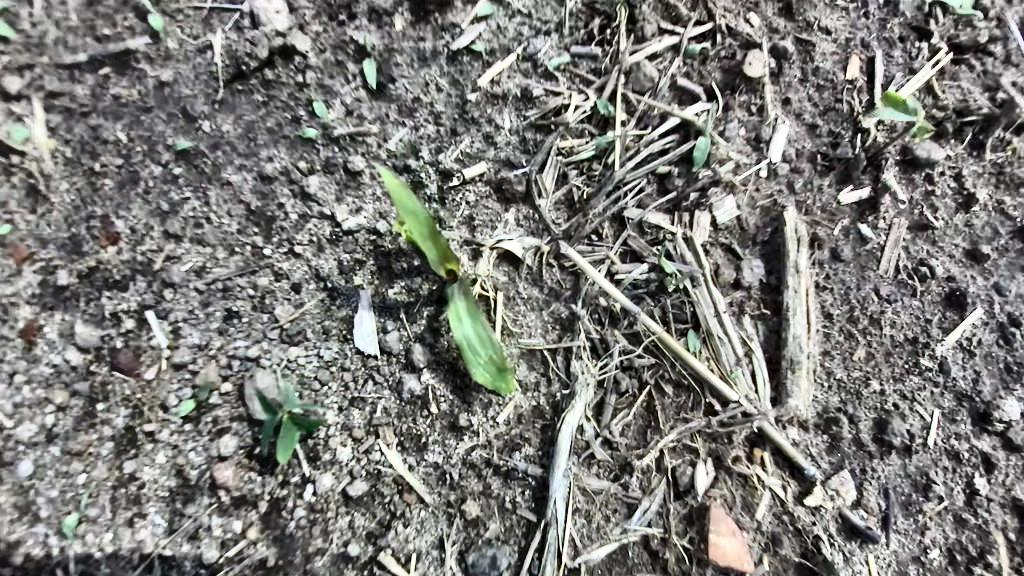BroWeed: (225, 362, 334, 471), (862, 80, 945, 149), (685, 98, 727, 175), (57, 475, 96, 542), (166, 381, 217, 423), (641, 243, 680, 283), (301, 83, 333, 124), (4, 117, 34, 147), (361, 36, 377, 91), (295, 122, 330, 147), (468, 37, 494, 66), (545, 48, 574, 74), (170, 127, 198, 153), (593, 94, 618, 122), (684, 39, 714, 59), (0, 16, 19, 43), (593, 131, 614, 154), (687, 328, 701, 354), (0, 221, 12, 238), (0, 0, 15, 13), (677, 336, 689, 351), (960, 0, 975, 9)
Maize: (355, 143, 528, 408)
